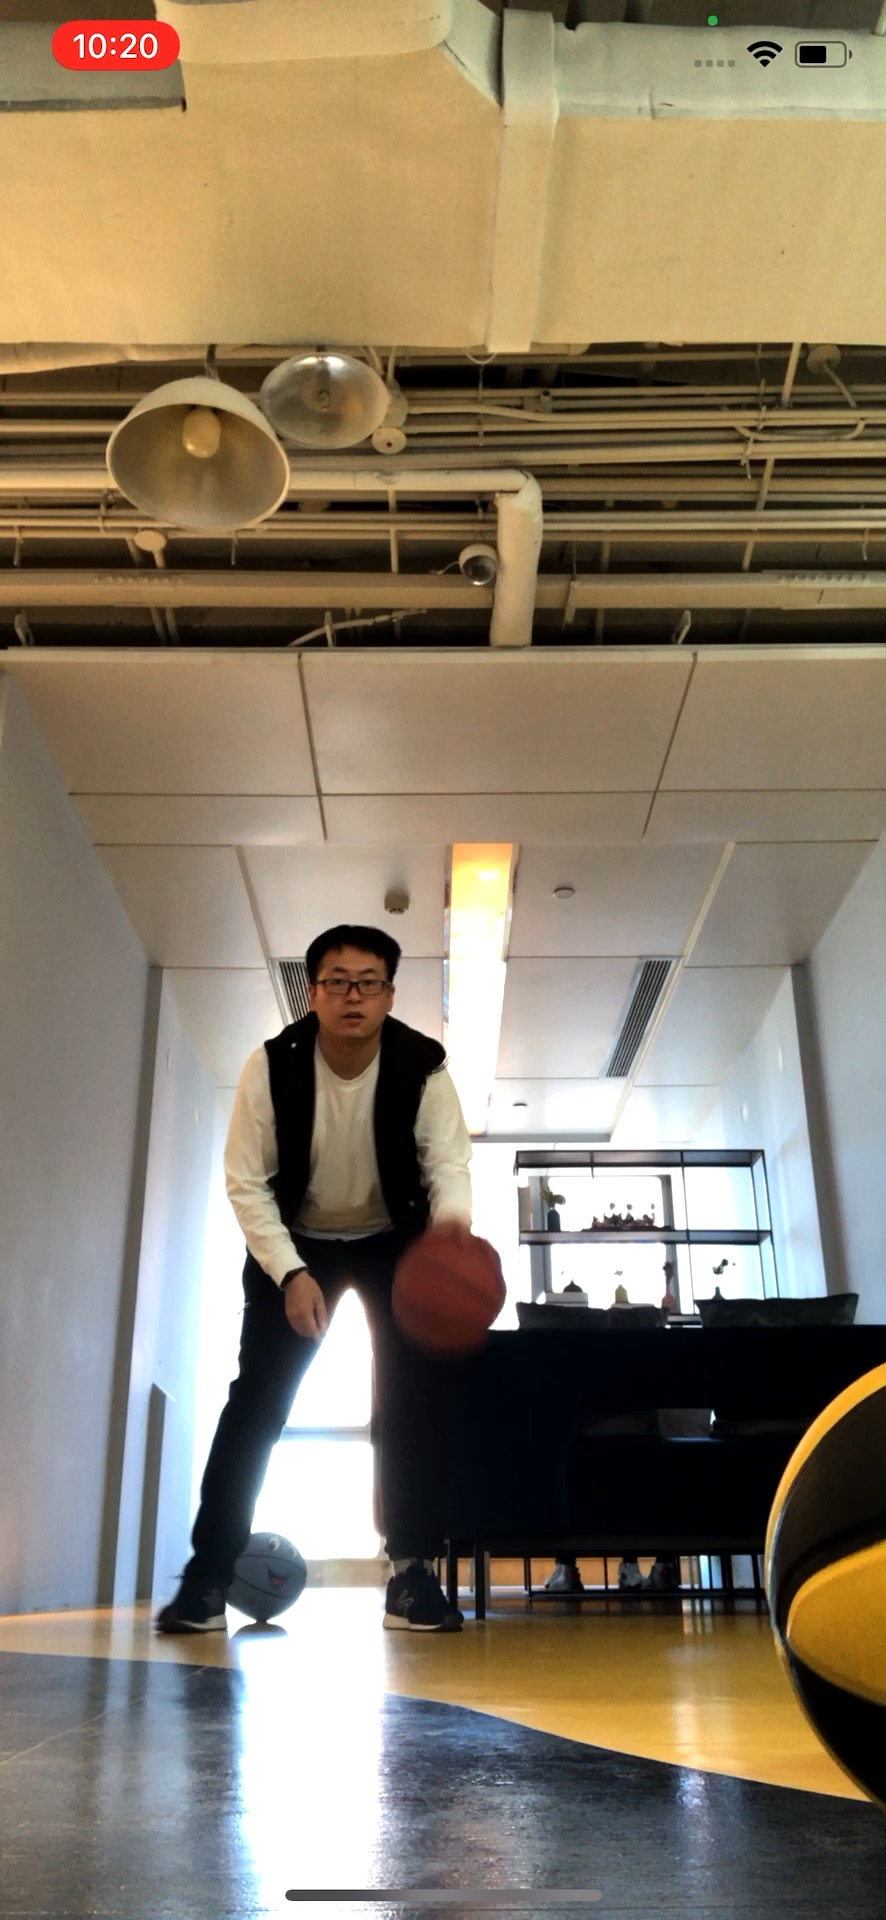ball: (765, 1359, 886, 1821), (392, 1227, 510, 1343), (225, 1536, 302, 1621)
